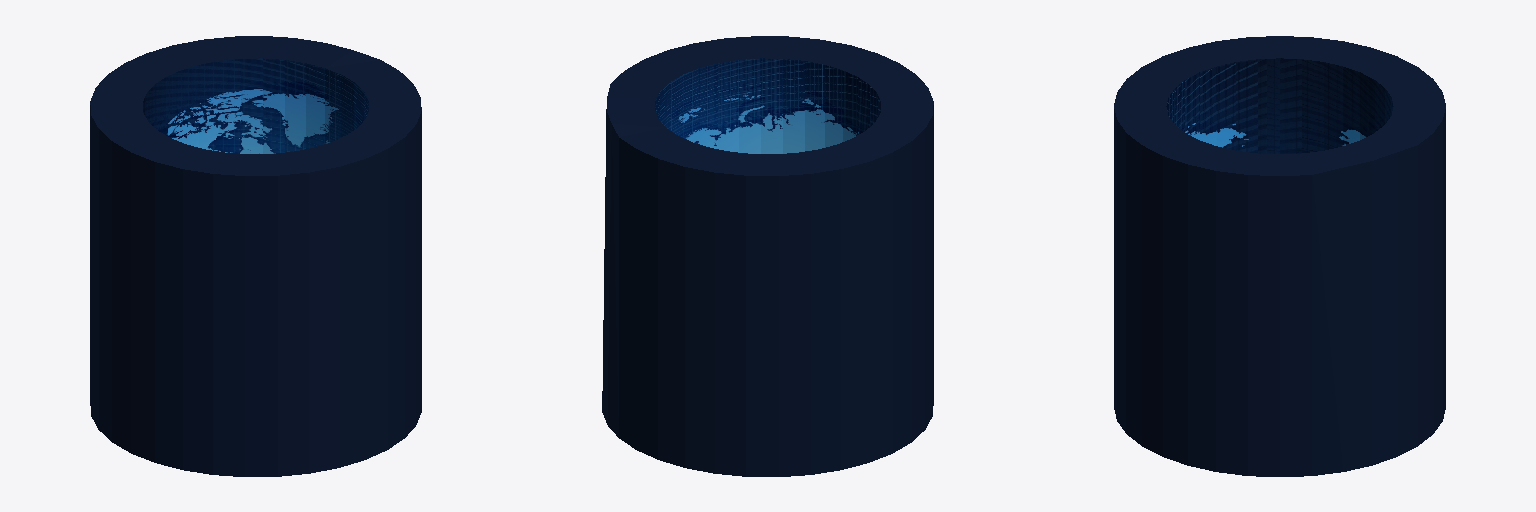
3 renders of one model, left to right at view 1: azimuth 30°, elevation 25°; view 2: azimuth 150°, elevation 25°; view 3: azimuth 270°, elevation 25°, orthographic.
Parts seen in each view (by area): view 1: Cylinder_Cylinder.001; view 2: Cylinder_Cylinder.001; view 3: Cylinder_Cylinder.001.
Boxes of the visible parts, x1=… form: Cylinder_Cylinder.001: x1=90, y1=36, x2=421, y2=476; Cylinder_Cylinder.001: x1=602, y1=36, x2=933, y2=476; Cylinder_Cylinder.001: x1=1114, y1=36, x2=1445, y2=476.
Size of the model in its own units: 2 by 2.01 by 2.
1 materials, 1 textured.